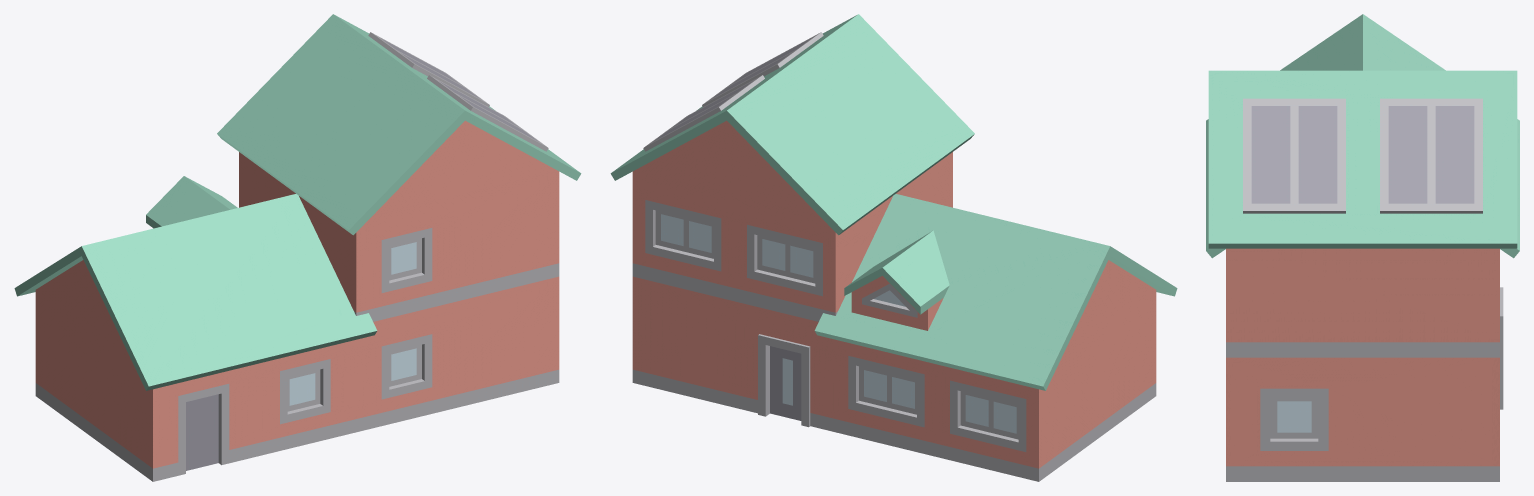
The model's file is house-suburban-b.glb.
3 renders of one model, left to right at view 1: azimuth 30°, elevation 25°; view 2: azimuth 150°, elevation 25°; view 3: azimuth 270°, elevation 25°, orthographic. The views are drawn at different scales.
Parts seen in each view (by area): view 1: house_type03; view 2: house_type03; view 3: house_type03.
Boxes of the visible parts, x1,y1,x2,y2 form: house_type03: (14, 14, 581, 481); house_type03: (610, 14, 1177, 481); house_type03: (1206, 14, 1519, 481).
Bounding box in the file's own units: 1.71 × 1.14 × 0.916.
Materials: 1 (1 with a texture image).
